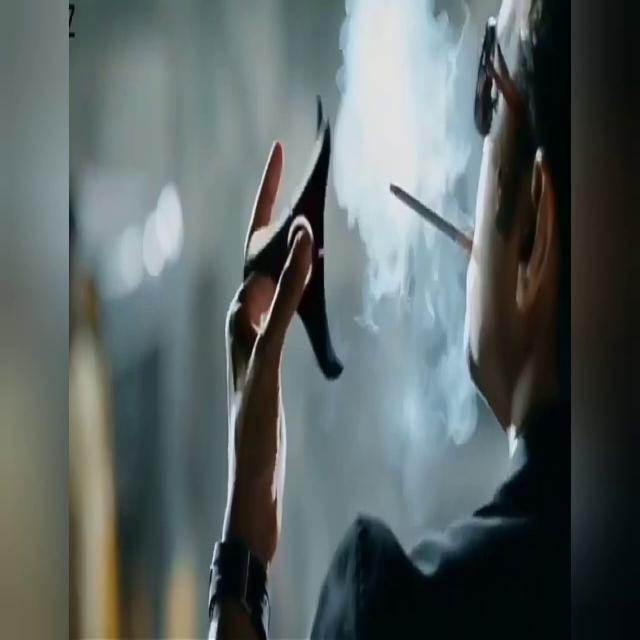smoking: (333, 18, 554, 423)
